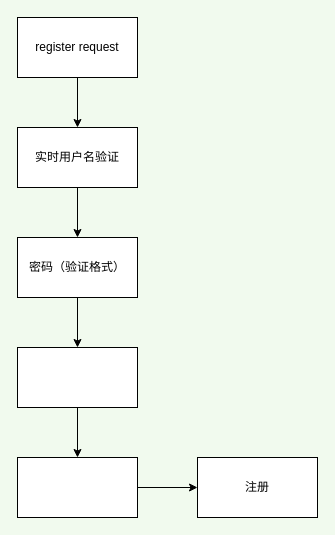
The diagram is 335 pixels wide and 535 high, and some of its shapes have lost their labels. Here are the shapes that lost their labels. From the top down, the centre of each, then its label:
At pixel 77 377: "邮箱（验证格式）".
At pixel 77 487: "邮箱验证码".
